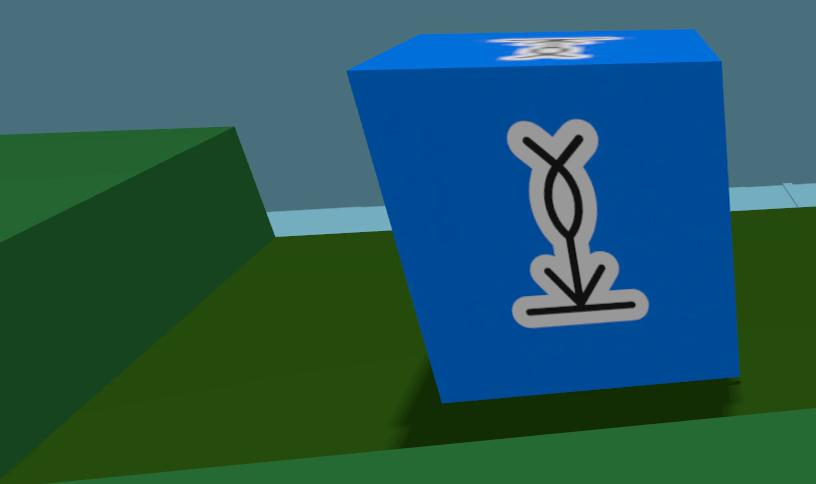KFS_REAL: (349, 29, 739, 401), (507, 119, 647, 328), (489, 38, 621, 60)
